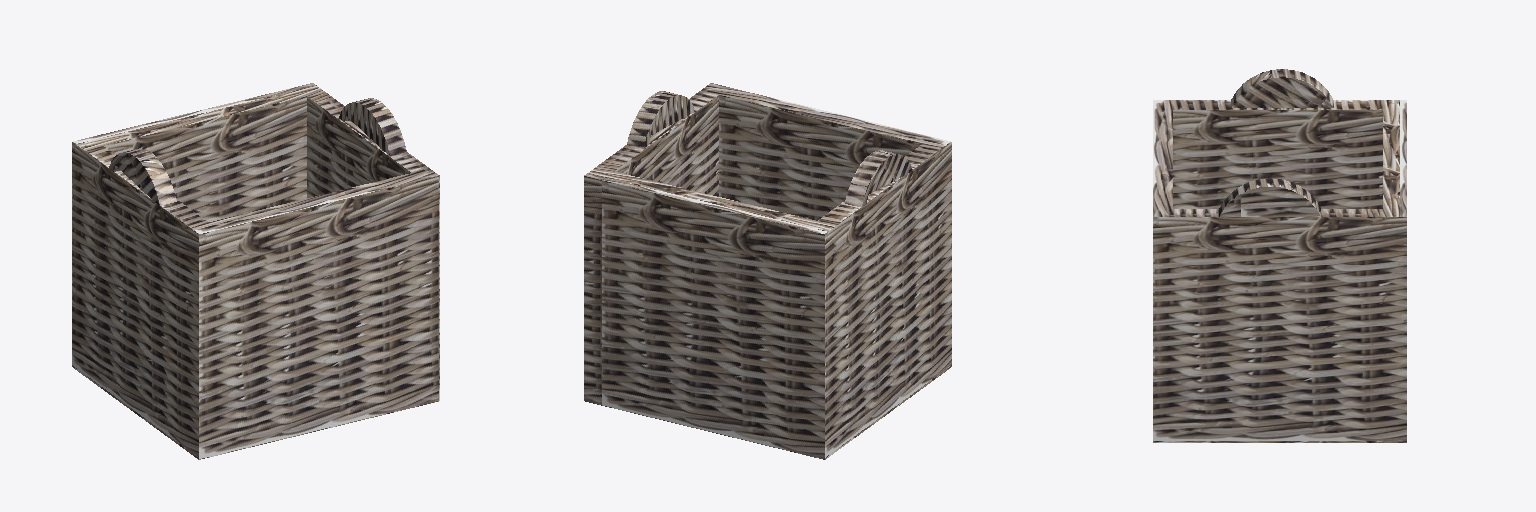
3 views of the same model, side by side, from view 1: azimuth 30°, elevation 25°; view 2: azimuth 150°, elevation 25°; view 3: azimuth 270°, elevation 25° (orthographic).
Parts seen in each view (by area): view 1: Mesh1 Model; view 2: Mesh1 Model; view 3: Mesh1 Model.
Boxes of the visible parts, <box> form: Mesh1 Model: <box>72,83,439,459</box>; Mesh1 Model: <box>584,83,951,459</box>; Mesh1 Model: <box>1153,69,1406,442</box>.
Size of the model in its own units: 57 by 58 by 52.
Materials: 1 (1 with a texture image).